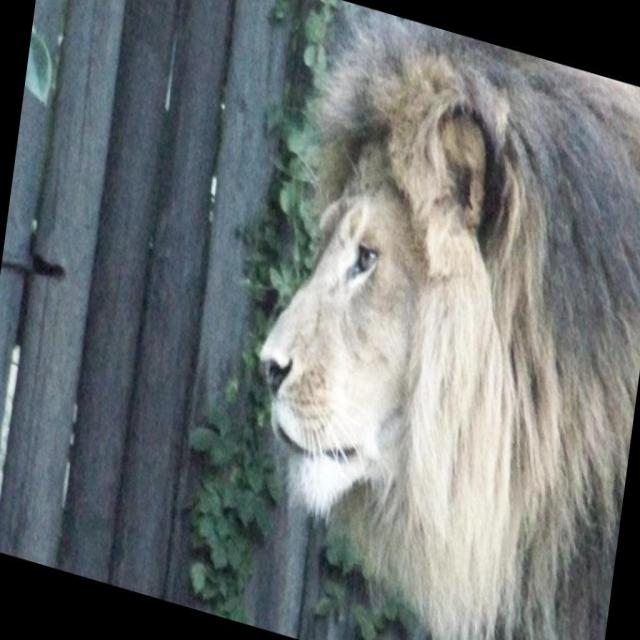Lion: (212, 0, 640, 639)
